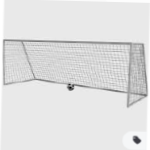goals: (1, 38, 150, 109)
